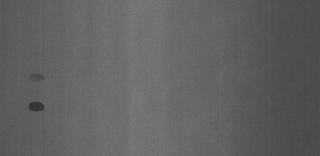oil spot: (28, 101, 46, 113), (28, 73, 44, 83)
